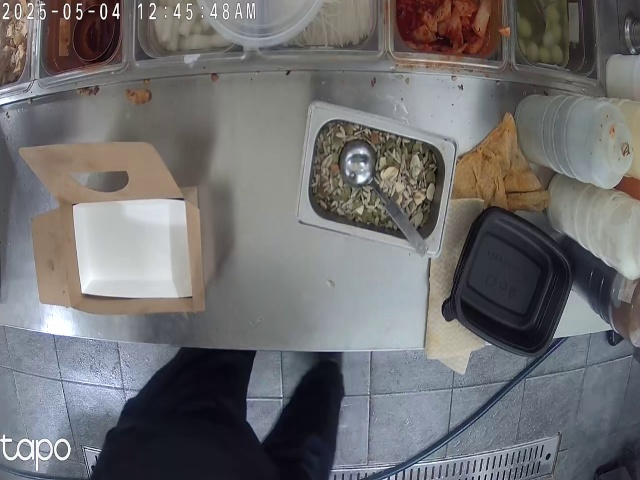delivery box: (24, 143, 213, 319)
